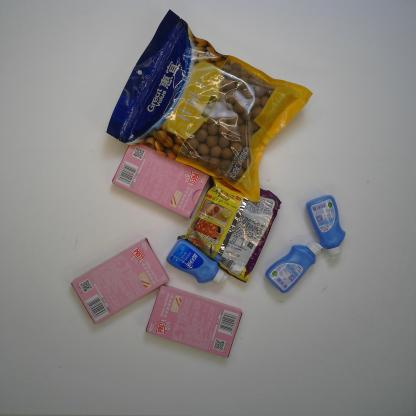Dessert: (70, 237, 170, 326), (111, 144, 211, 219), (145, 283, 243, 359)
Dried Food: (104, 8, 314, 205)
Instant Noodles: (176, 174, 282, 284)
Personal Hygiene: (265, 241, 324, 294), (166, 238, 229, 285), (304, 194, 346, 260)
